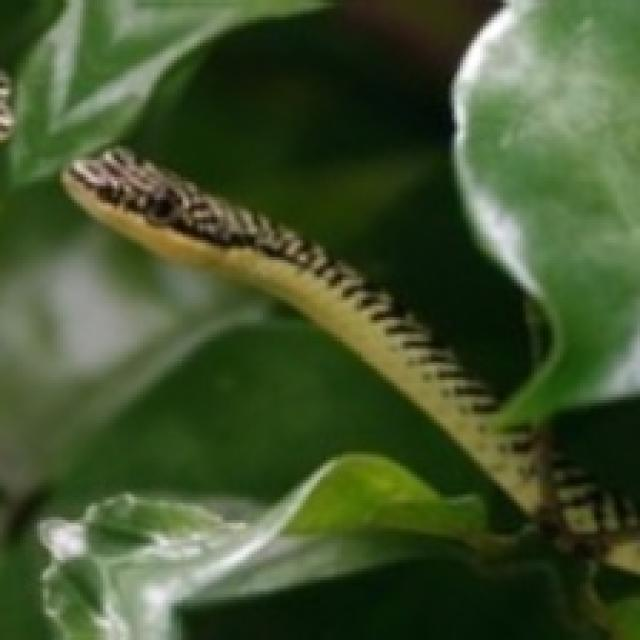paradise tree snake: (0, 183, 637, 637)
